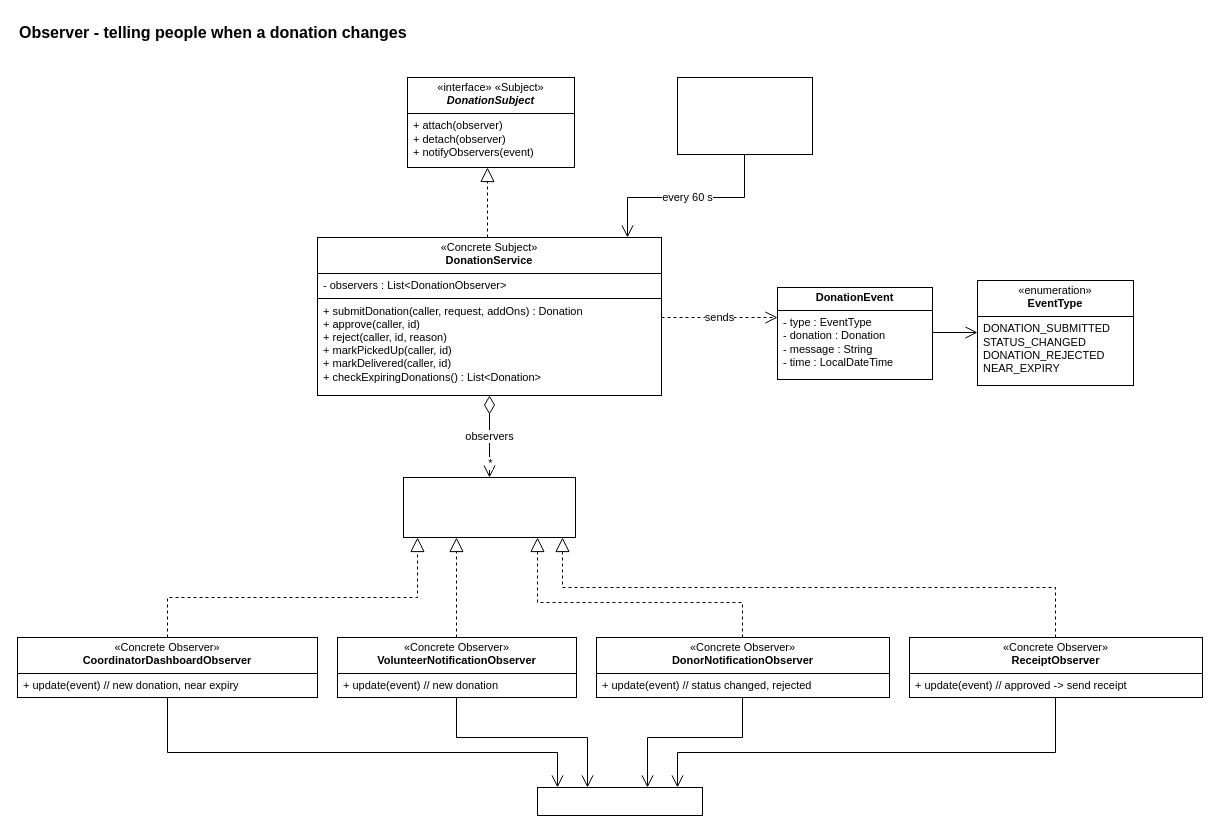
This 1220x833 diagram has some shape labels left out. Each missing label, with the box of its shape:
ExpiryScheduler + start() + stop() + runNow(): (676, 76, 812, 154)
NotificationService: (536, 786, 702, 816)
«interface» «Observer» DonationObserver + update(event): (402, 476, 576, 538)
